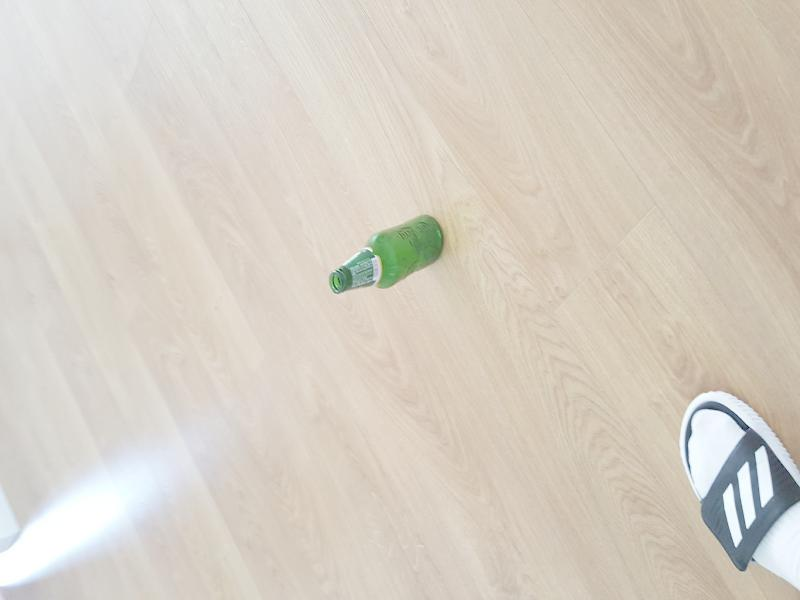Beer: (331, 217, 443, 293)
